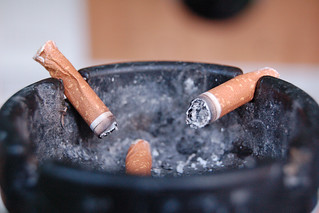cigarette: (31, 38, 122, 139), (183, 64, 283, 131), (126, 138, 154, 176)
